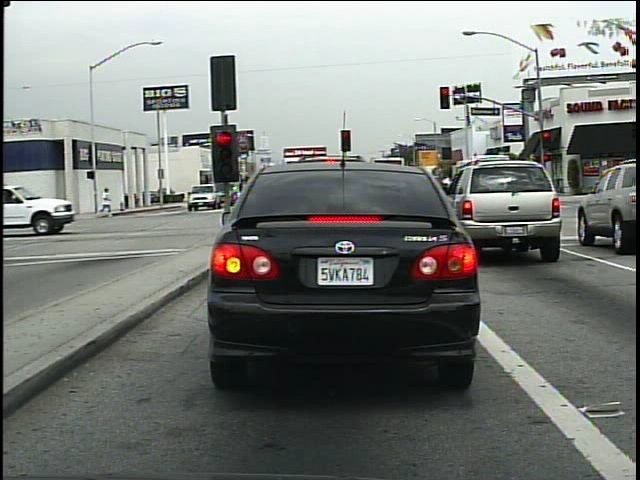person: (100, 185, 115, 219)
